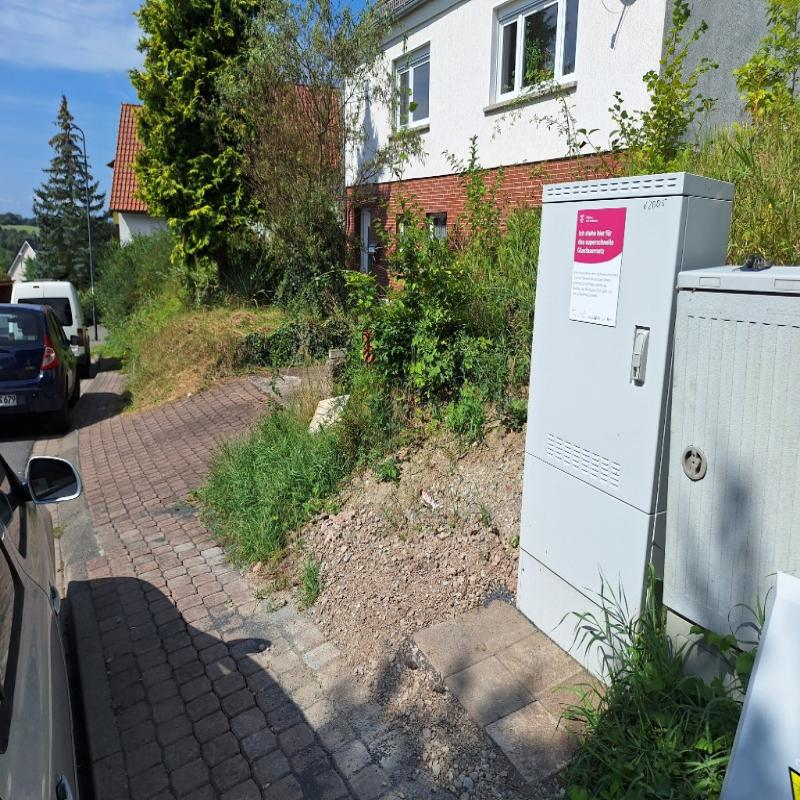NT-Gehause: (519, 173, 732, 652)
Steaker: (570, 207, 625, 328)
